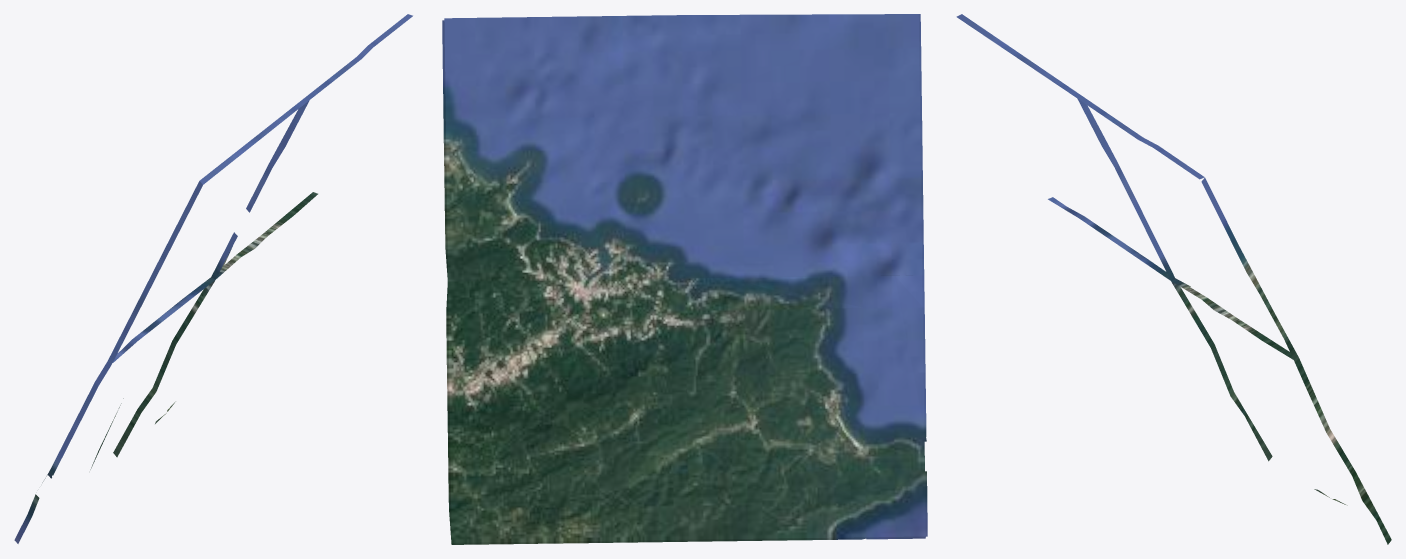
3 renders of one model, left to right at view 1: azimuth 30°, elevation 25°; view 2: azimuth 150°, elevation 25°; view 3: azimuth 270°, elevation 25°, orthographic. The views are drawn at different scales.
Bounding box in the file's own units: 39383 × 35823 × 33848.
1 material, 1 textured.
